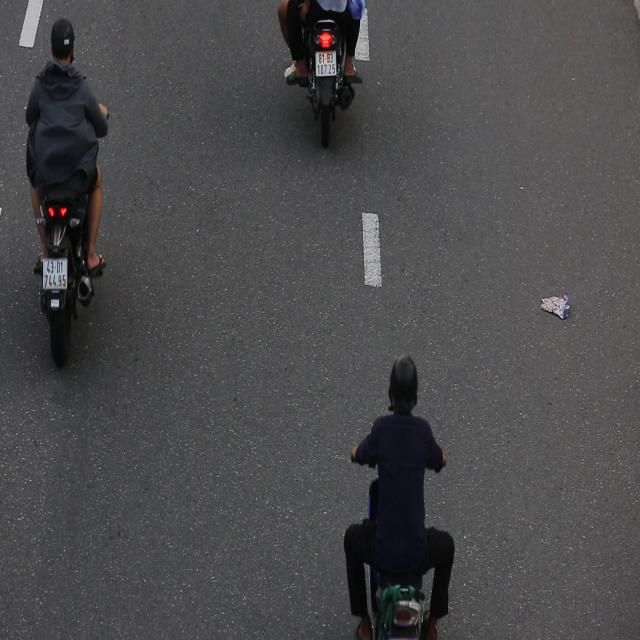motorbike: (15, 8, 124, 391)
